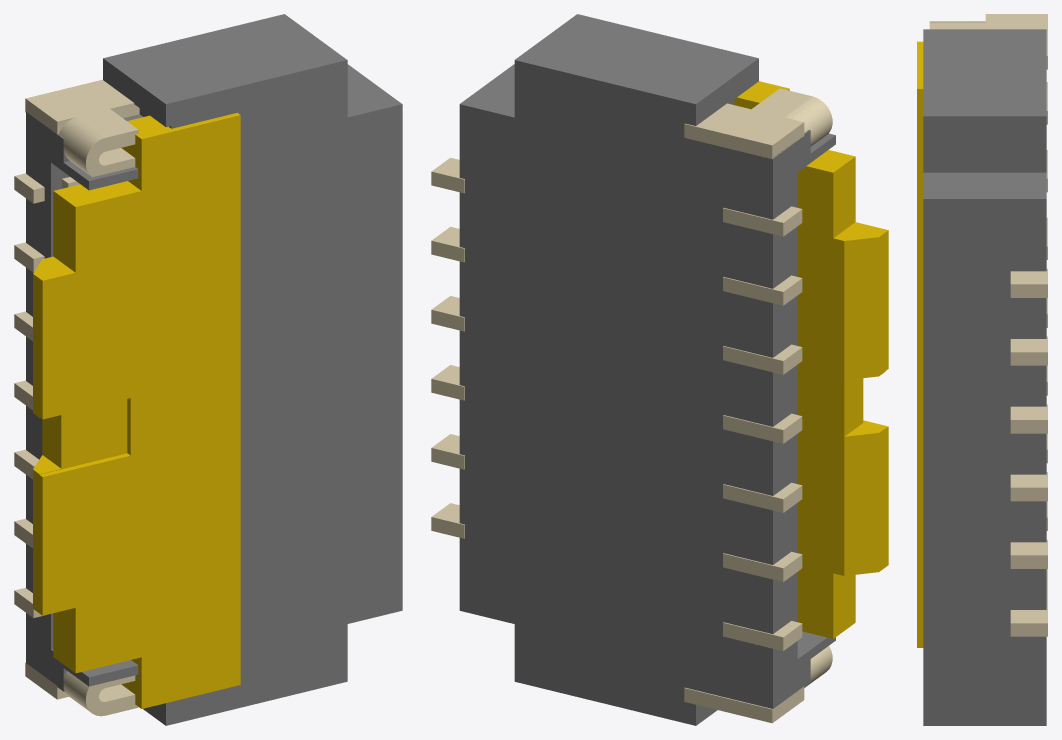
File: Hirose_FH26-13S-0.3SHW_2Rows-13Pins-1MP_P0.60mm_Horizontal.glb
3 renders of one model, left to right at view 1: azimuth 30°, elevation 25°; view 2: azimuth 150°, elevation 25°; view 3: azimuth 270°, elevation 25°, orthographic.
Visible parts, largest first — view 1: Shape_IndexedFaceSet.004, Shape_IndexedFaceSet.031, Shape_IndexedFaceSet.001, Shape_IndexedFaceSet.014, Shape_IndexedFaceSet.034, Shape_IndexedFaceSet.168, Shape_IndexedFaceSet.002, Shape_IndexedFaceSet.046, Shape_IndexedFaceSet.005, Shape_IndexedFaceSet.044, Shape_IndexedFaceSet.029, Shape_IndexedFaceSet.122 (+6 smaller); view 2: Shape_IndexedFaceSet.003, Shape_IndexedFaceSet.032, Shape_IndexedFaceSet.014, Shape_IndexedFaceSet.001, Shape_IndexedFaceSet.050, Shape_IndexedFaceSet.030, Shape_IndexedFaceSet.168, Shape_IndexedFaceSet.002, Shape_IndexedFaceSet.046, Shape_IndexedFaceSet.005, Shape_IndexedFaceSet.029, Shape_IndexedFaceSet.044 (+12 smaller); view 3: Shape_IndexedFaceSet.006, Shape_IndexedFaceSet.001, Shape_IndexedFaceSet, Shape_IndexedFaceSet.038, Shape_IndexedFaceSet.008, Shape_IndexedFaceSet.002, Shape_IndexedFaceSet.168, Shape_IndexedFaceSet.162, Shape_IndexedFaceSet.130, Shape_IndexedFaceSet.142, Shape_IndexedFaceSet.127, Shape_IndexedFaceSet.139 (+8 smaller).
Boxes of the visible parts, x1,y1,x2,y2 form: Shape_IndexedFaceSet.004: [89, 60, 402, 725]; Shape_IndexedFaceSet.031: [42, 115, 240, 708]; Shape_IndexedFaceSet.001: [103, 14, 346, 104]; Shape_IndexedFaceSet.014: [26, 112, 88, 691]; Shape_IndexedFaceSet.034: [39, 399, 127, 474]; Shape_IndexedFaceSet.168: [25, 79, 138, 137]; Shape_IndexedFaceSet.002: [347, 64, 402, 117]; Shape_IndexedFaceSet.046: [53, 191, 75, 272]; Shape_IndexedFaceSet.005: [103, 58, 165, 126]; Shape_IndexedFaceSet.044: [33, 274, 42, 419]; Shape_IndexedFaceSet.029: [33, 470, 42, 615]; Shape_IndexedFaceSet.122: [59, 117, 105, 176]; Shape_IndexedFaceSet.003: [459, 60, 772, 725]; Shape_IndexedFaceSet.032: [734, 97, 844, 638]; Shape_IndexedFaceSet.014: [773, 130, 835, 708]; Shape_IndexedFaceSet.001: [515, 14, 758, 104]; Shape_IndexedFaceSet.050: [844, 237, 878, 380]; Shape_IndexedFaceSet.030: [844, 433, 878, 575]; Shape_IndexedFaceSet.168: [685, 88, 812, 145]; Shape_IndexedFaceSet.002: [460, 64, 514, 117]; Shape_IndexedFaceSet.046: [833, 156, 855, 237]; Shape_IndexedFaceSet.005: [696, 58, 758, 125]; Shape_IndexedFaceSet.029: [879, 426, 888, 571]; Shape_IndexedFaceSet.044: [879, 230, 888, 375]; Shape_IndexedFaceSet.006: [923, 199, 1046, 695]; Shape_IndexedFaceSet.001: [923, 29, 1046, 116]; Shape_IndexedFaceSet: [923, 116, 1046, 172]; Shape_IndexedFaceSet.038: [917, 89, 923, 647]; Shape_IndexedFaceSet.008: [923, 696, 1046, 725]; Shape_IndexedFaceSet.002: [923, 172, 1046, 198]; Shape_IndexedFaceSet.168: [929, 14, 1047, 55]; Shape_IndexedFaceSet.162: [1010, 487, 1047, 501]; Shape_IndexedFaceSet.130: [1010, 336, 1047, 352]; Shape_IndexedFaceSet.142: [1010, 607, 1047, 623]; Shape_IndexedFaceSet.127: [1010, 268, 1047, 284]; Shape_IndexedFaceSet.139: [1010, 539, 1047, 555].
Size of the model in its own units: 1.4 by 2.13 by 0.4134.
